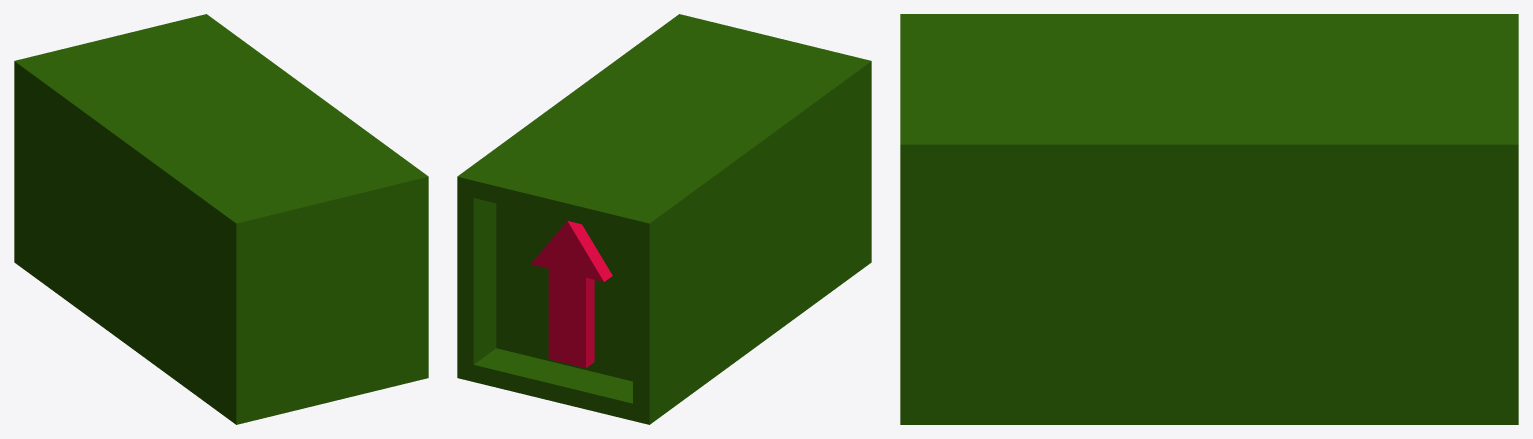
The model's file is lvl1_groundTop.fbx.
3 views of the same model, side by side, from view 1: azimuth 30°, elevation 25°; view 2: azimuth 150°, elevation 25°; view 3: azimuth 270°, elevation 25° (orthographic). The views are drawn at different scales.
Parts seen in each view (by area): view 1: pCube3; view 2: pCube3; view 3: pCube3.
Part boxes in pixels (left/top/right/bottom): pCube3: left=14, top=14, right=428, bottom=424; pCube3: left=457, top=14, right=871, bottom=424; pCube3: left=900, top=14, right=1518, bottom=424.
Size of the model in its own units: 100 by 100 by 200.
